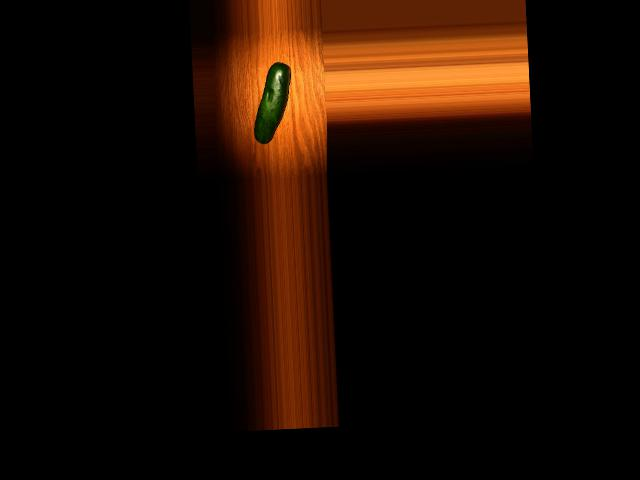cucumber: (251, 62, 294, 144)
